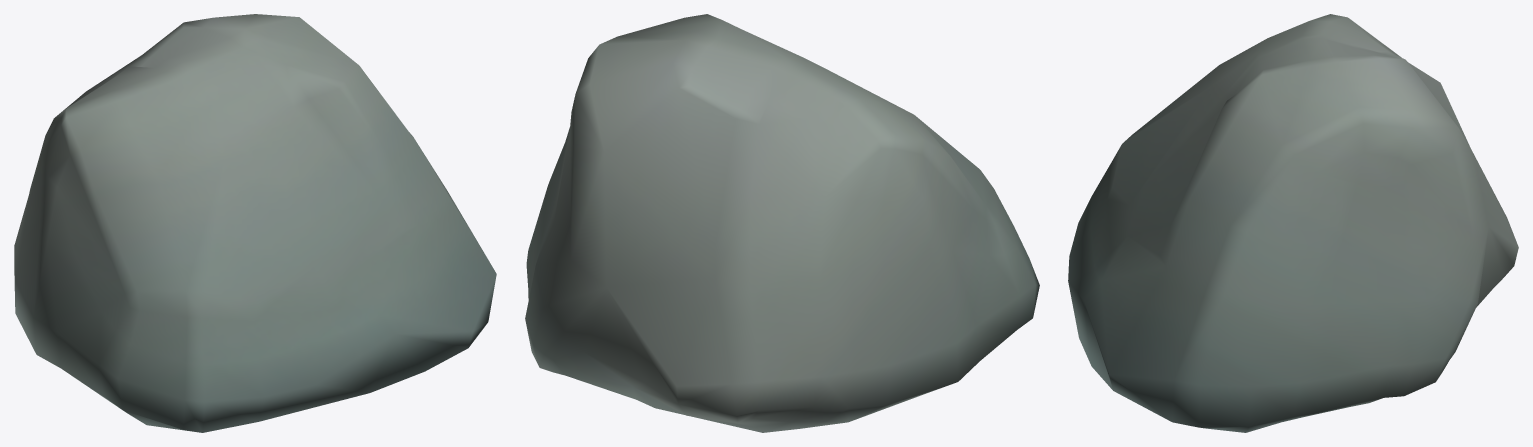
The model's file is Rock03.fbx.
3 views of the same model, side by side, from view 1: azimuth 30°, elevation 25°; view 2: azimuth 150°, elevation 25°; view 3: azimuth 270°, elevation 25° (orthographic). The views are drawn at different scales.
Visible parts, largest first — view 1: Rock03; view 2: Rock03; view 3: Rock03.
Part boxes in pixels (x1,y1,x2,y2): Rock03: [14, 14, 496, 432]; Rock03: [525, 14, 1039, 432]; Rock03: [1068, 14, 1518, 432].
Bounding box in the file's own units: 401 × 285 × 381.
